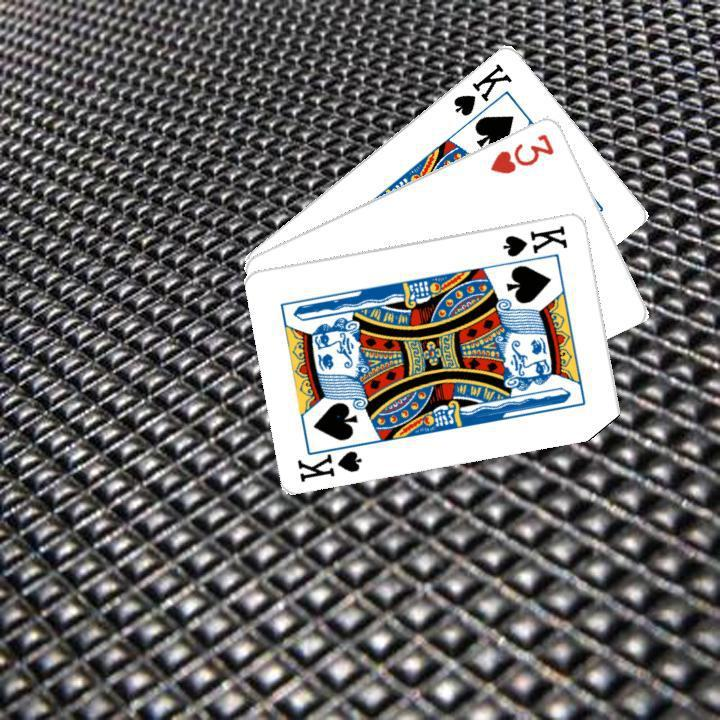3: (486, 128, 557, 176)
K: (448, 58, 514, 118), (293, 437, 368, 483), (498, 220, 570, 258)
